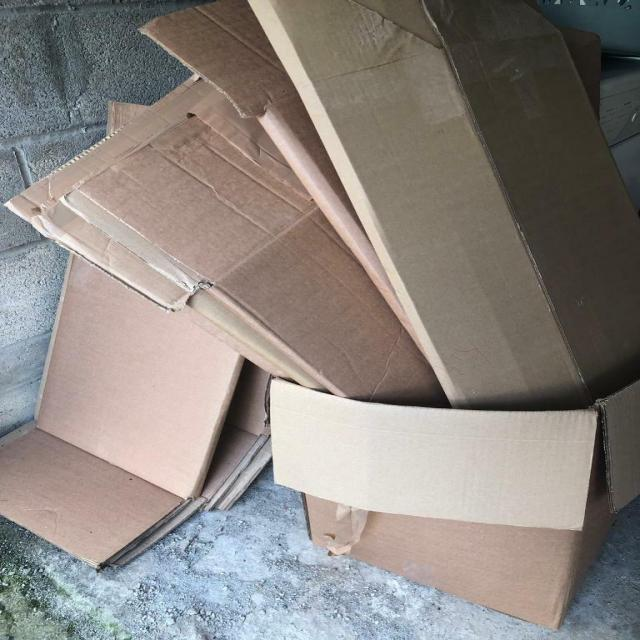cardboard: (0, 0, 640, 413), (0, 97, 275, 578), (266, 377, 640, 634)
